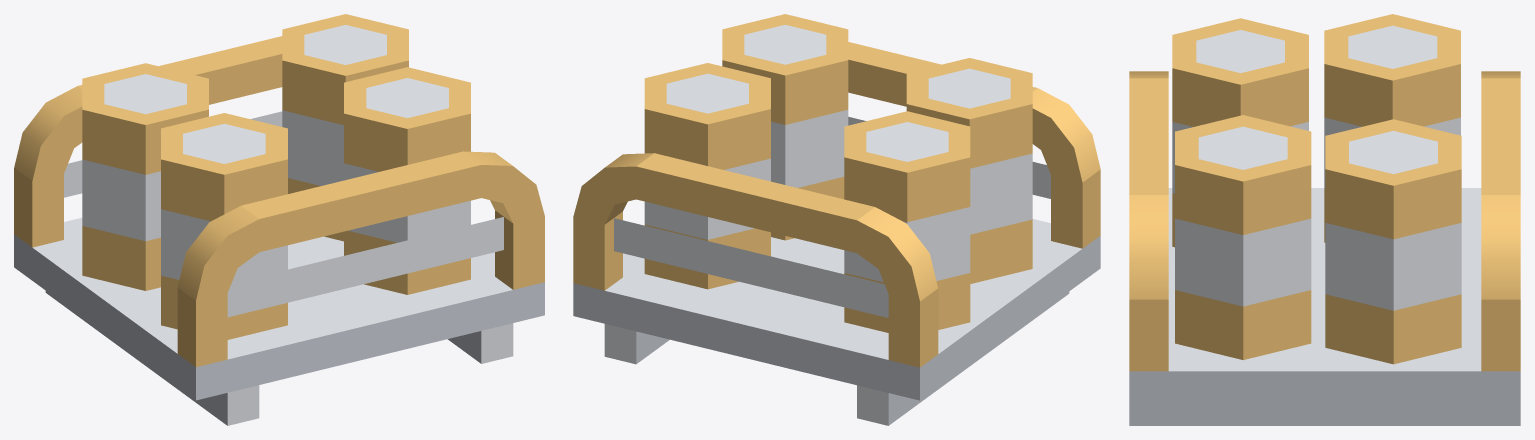
Rendered from barrel2.glb.
The picture shows the model from 3 angles, left to right: view 1: azimuth 30°, elevation 25°; view 2: azimuth 150°, elevation 25°; view 3: azimuth 270°, elevation 25°; orthographic projection. The views are drawn at different scales.
Parts seen in each view (by area): view 1: barrel.005; view 2: barrel.005; view 3: barrel.005.
Part boxes in pixels (x1,y1,x2,y2): barrel.005: [14, 14, 544, 425]; barrel.005: [573, 14, 1100, 425]; barrel.005: [1129, 14, 1520, 425].
Bounding box in the file's own units: 3.01 × 1.92 × 2.72.
